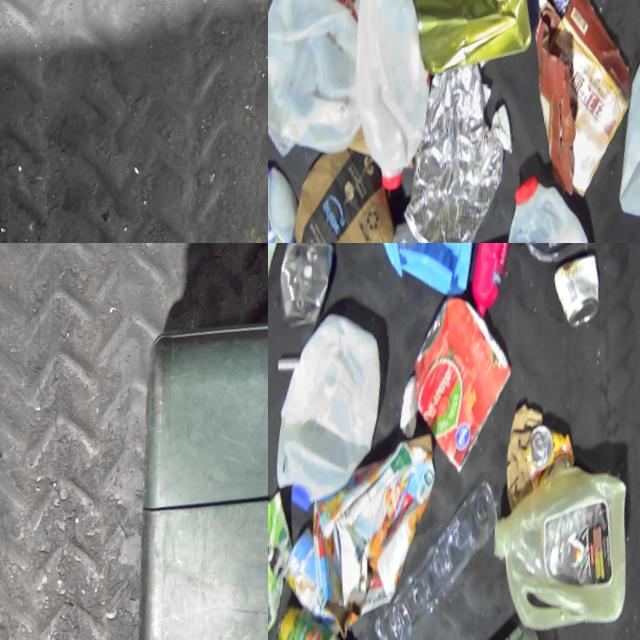can: (402, 287, 540, 494), (273, 243, 351, 338), (551, 261, 614, 343), (528, 428, 589, 497), (279, 597, 359, 640)
milk_jug: (268, 303, 410, 525), (338, 0, 463, 208), (489, 468, 640, 640), (268, 0, 391, 179), (503, 173, 622, 243), (607, 42, 640, 236)
non_white_jug: (303, 443, 466, 640), (268, 491, 325, 640), (268, 158, 331, 243)
